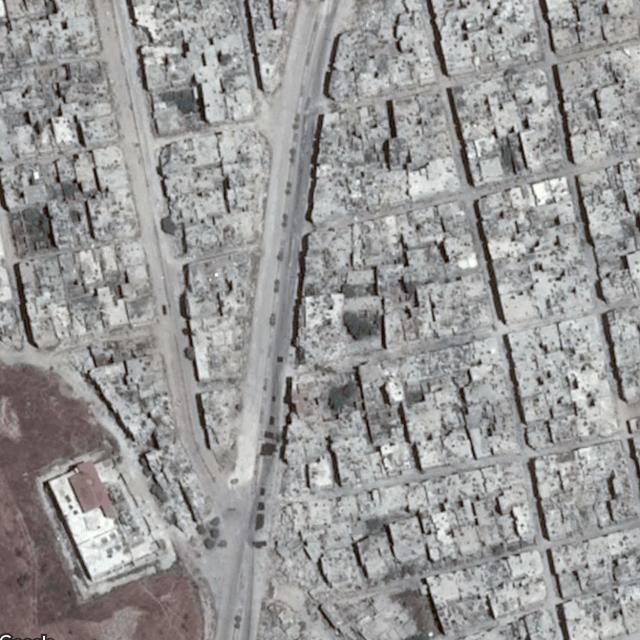damaged_building: (275, 501, 330, 590), (294, 292, 354, 367), (280, 458, 306, 498)
